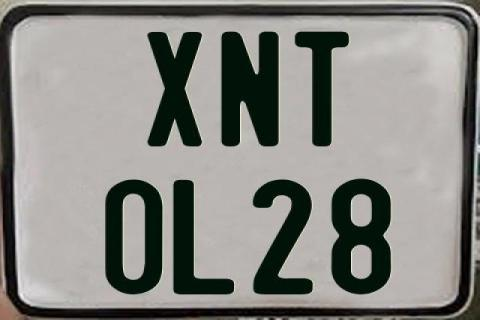0: (330, 177, 396, 297), (104, 178, 168, 294), (253, 179, 316, 295)
L: (171, 179, 238, 297)
N: (221, 29, 279, 149)
T: (292, 31, 352, 147)
X: (146, 32, 204, 150)
